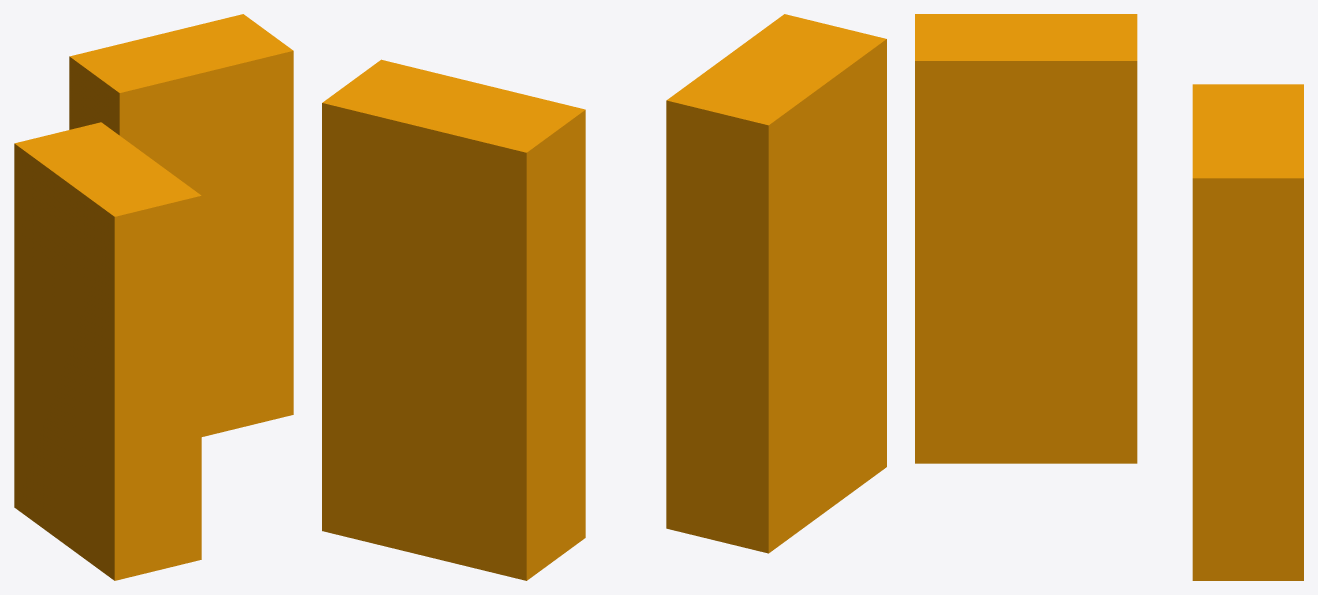
Rendered from ayna_ornek.gltf.
3 views of the same model, side by side, from view 1: azimuth 30°, elevation 25°; view 2: azimuth 150°, elevation 25°; view 3: azimuth 270°, elevation 25° (orthographic). The views are drawn at different scales.
Visible parts, largest first — view 1: orijinal_ve_aynali_part; view 2: orijinal_ve_aynali_part; view 3: orijinal_ve_aynali_part.
Part boxes in pixels (x1,y1,x2,y2): orijinal_ve_aynali_part: [14, 14, 293, 580]; orijinal_ve_aynali_part: [322, 14, 886, 580]; orijinal_ve_aynali_part: [915, 14, 1303, 580].
Bounding box in the file's own units: 17.5 × 20 × 17.5.
